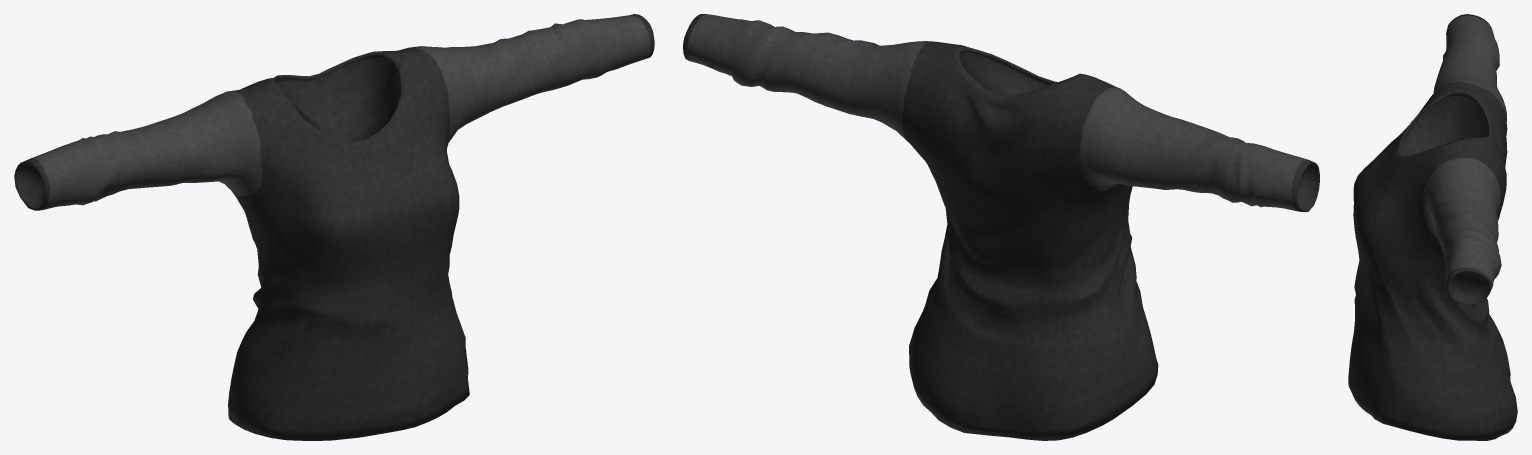
Rendered from top_1.obj.
The picture shows the model from 3 angles, left to right: view 1: azimuth 30°, elevation 25°; view 2: azimuth 150°, elevation 25°; view 3: azimuth 270°, elevation 25°; orthographic projection. The views are drawn at different scales.
Visible parts, largest first — view 1: cloth_1:Tops; view 2: cloth_1:Tops; view 3: cloth_1:Tops.
Boxes of the visible parts, <box> form: cloth_1:Tops: <box>14,14,654,440</box>; cloth_1:Tops: <box>683,14,1319,440</box>; cloth_1:Tops: <box>1348,14,1517,440</box>.
Size of the model in its own units: 107 by 58.28 by 29.96.
1 material, 1 textured.
